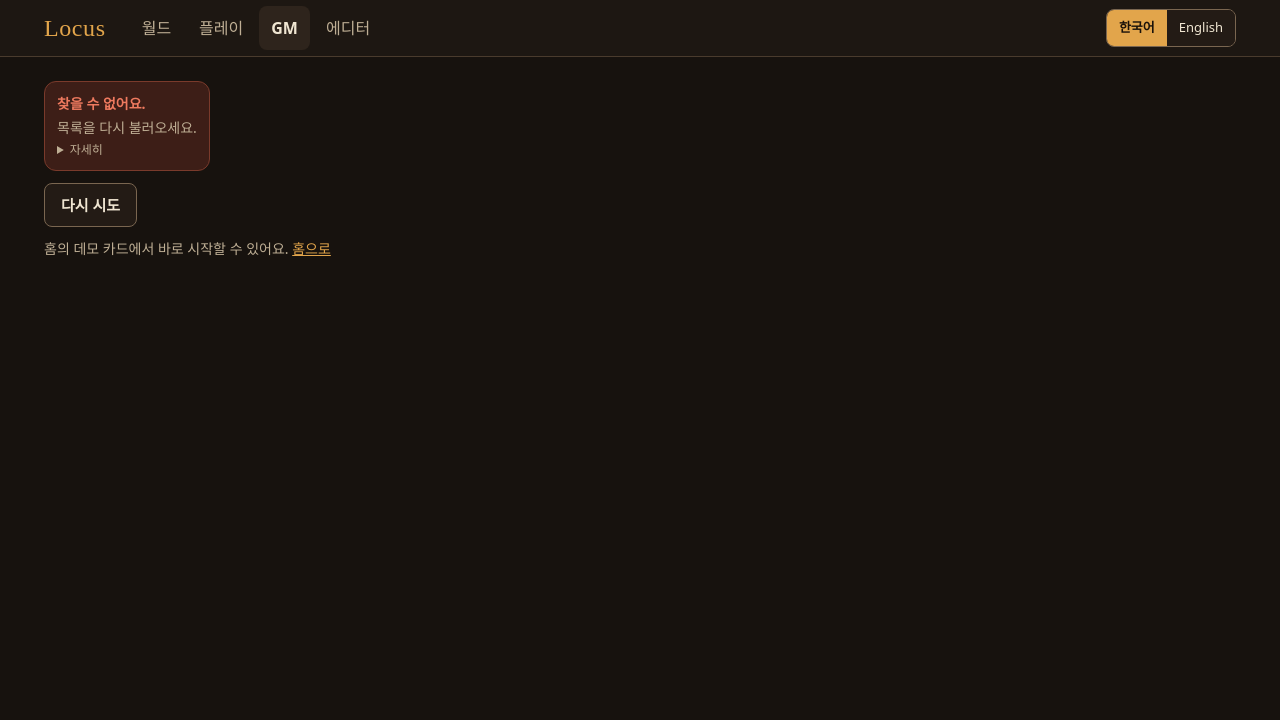
it: App routing (F1 / AD-R8) › keeps the GM screen recoverable when the session cannot be loaded
Expected: the element with test id "gm-error" is shown, [44, 81, 331, 258]
Click the button with test id "gm-retry-btn" at (91, 205), box [44, 183, 137, 227]
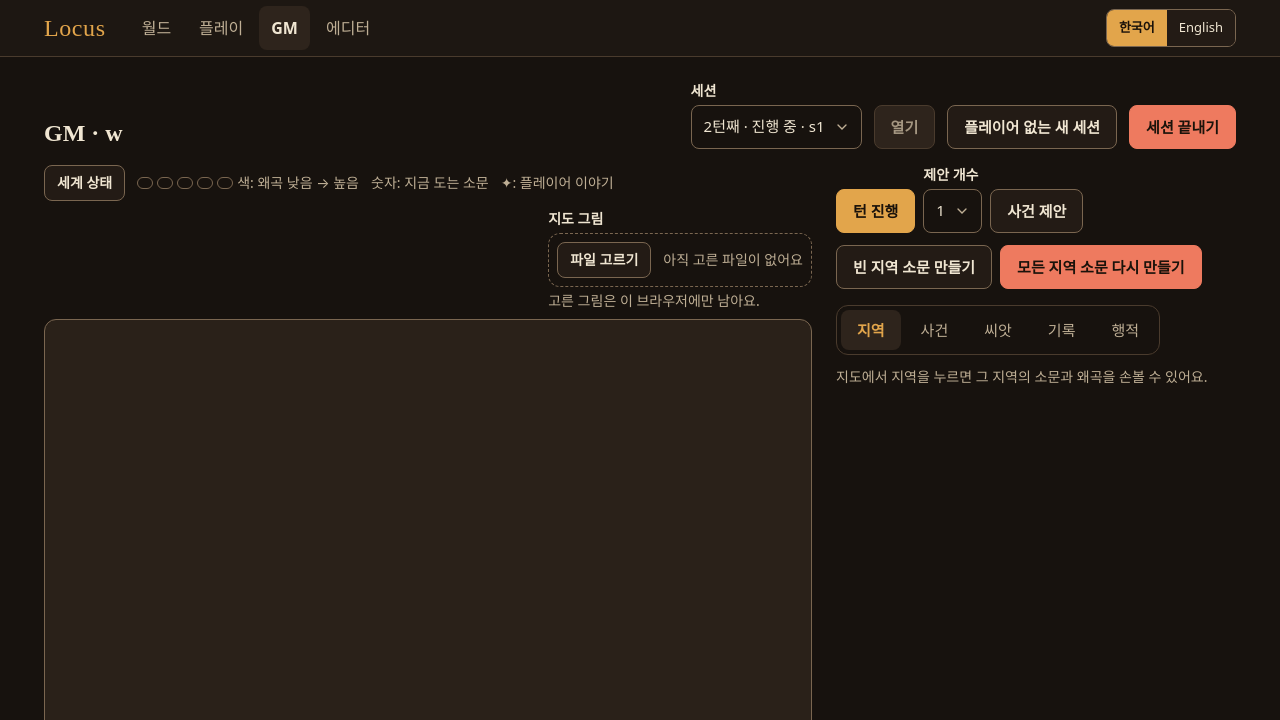
Expected: the element with test id "turn-tools" is shown, [836, 165, 1232, 289]
